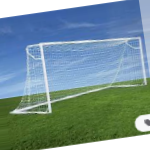goals: (9, 34, 150, 115)
